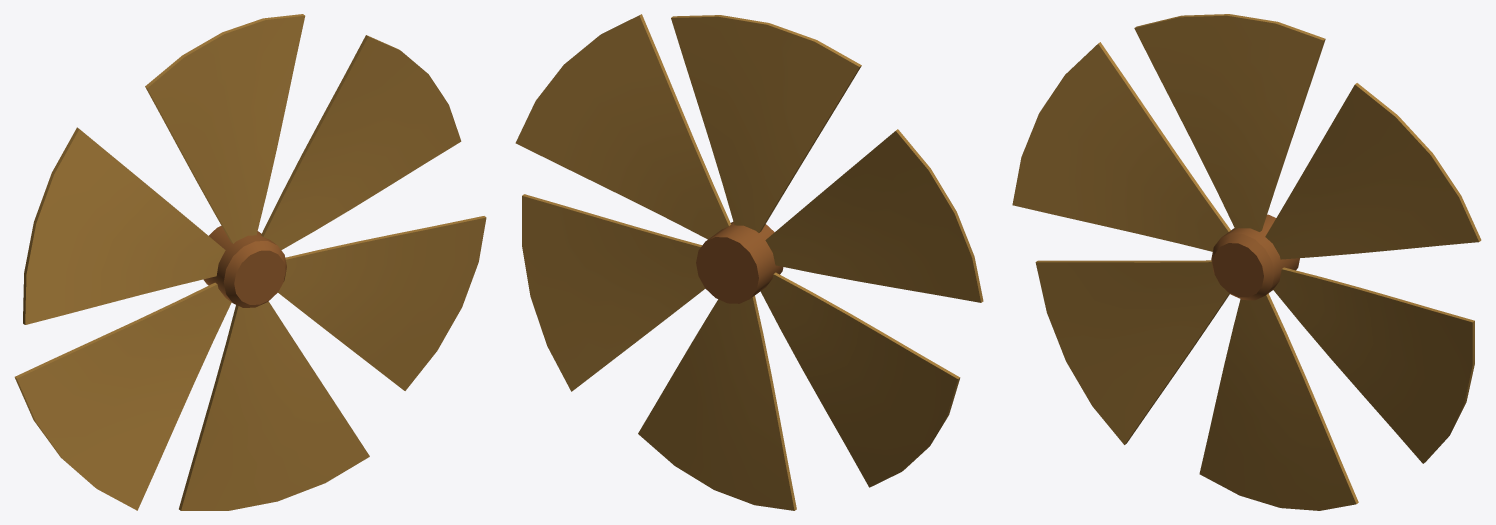
File: SP_Tower01_ExhustFan01.fbx
3 renders of one model, left to right at view 1: azimuth 30°, elevation 25°; view 2: azimuth 150°, elevation 25°; view 3: azimuth 330°, elevation 25°, orthographic.
Parts seen in each view (by area): view 1: SP_Tower01_ExhustFan01; view 2: SP_Tower01_ExhustFan01; view 3: SP_Tower01_ExhustFan01.
Part boxes in pixels (x1,y1,x2,y2): SP_Tower01_ExhustFan01: (14, 14, 486, 510); SP_Tower01_ExhustFan01: (515, 14, 983, 510); SP_Tower01_ExhustFan01: (1012, 14, 1481, 510).
Size of the model in its own units: 3.88 by 3.87 by 0.4463.
